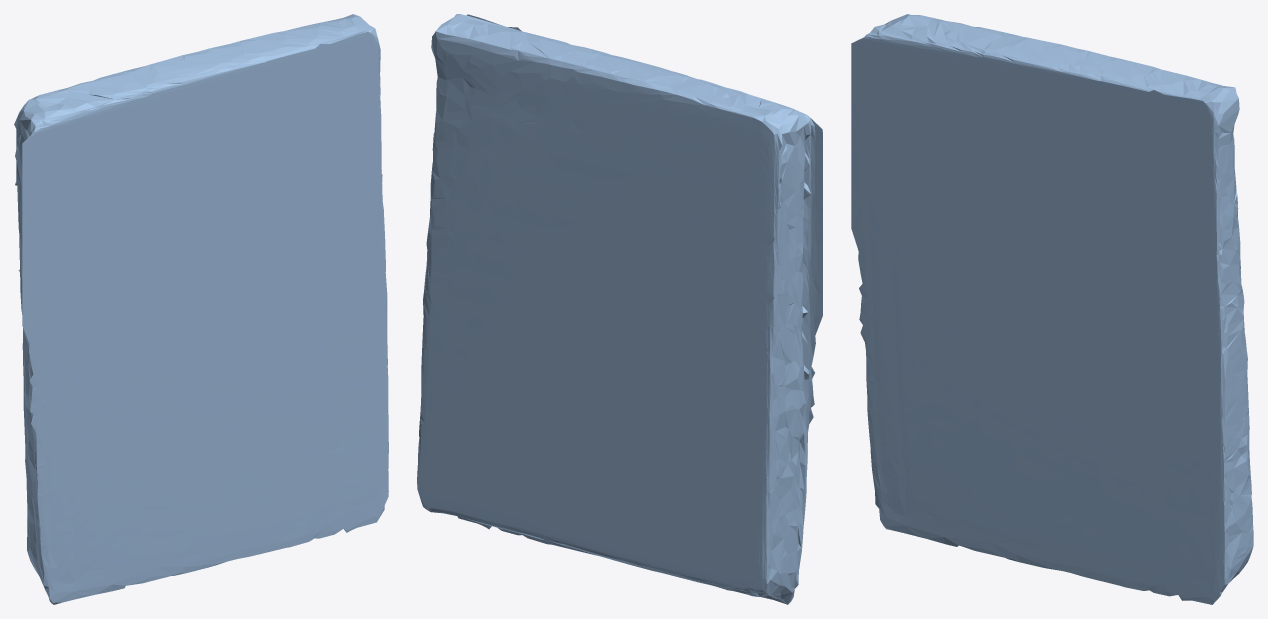
Rendered from improved.glb.
3 views of the same model, side by side, from view 1: azimuth 30°, elevation 25°; view 2: azimuth 150°, elevation 25°; view 3: azimuth 330°, elevation 25° (orthographic). The views are drawn at different scales.
Visible parts, largest first — view 1: world; view 2: world; view 3: world.
Boxes of the visible parts, left/top/right/bottom form: world: left=14, top=14, right=388, bottom=604; world: left=417, top=14, right=822, bottom=604; world: left=851, top=14, right=1253, bottom=604.
Size of the model in its own units: 0.45 by 0.5806 by 0.054.
